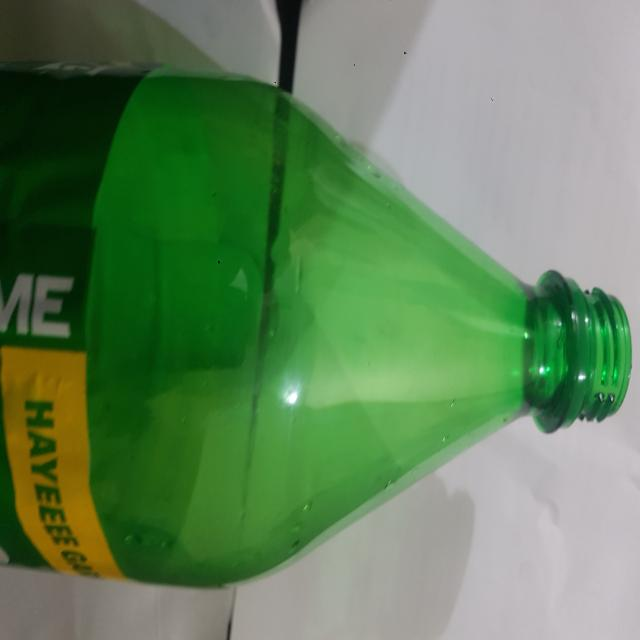general: (1, 60, 632, 589)
